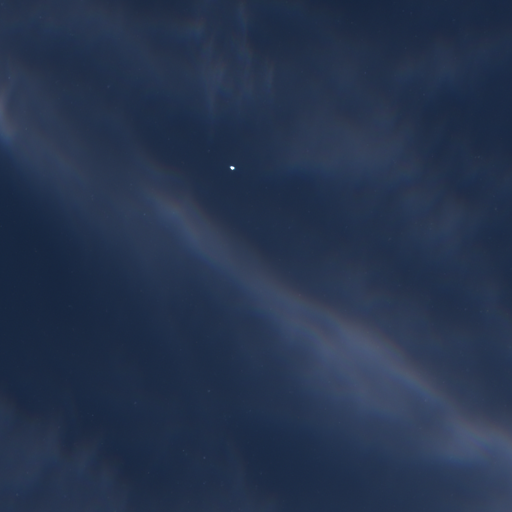Iceberg: (229, 166, 234, 169)
